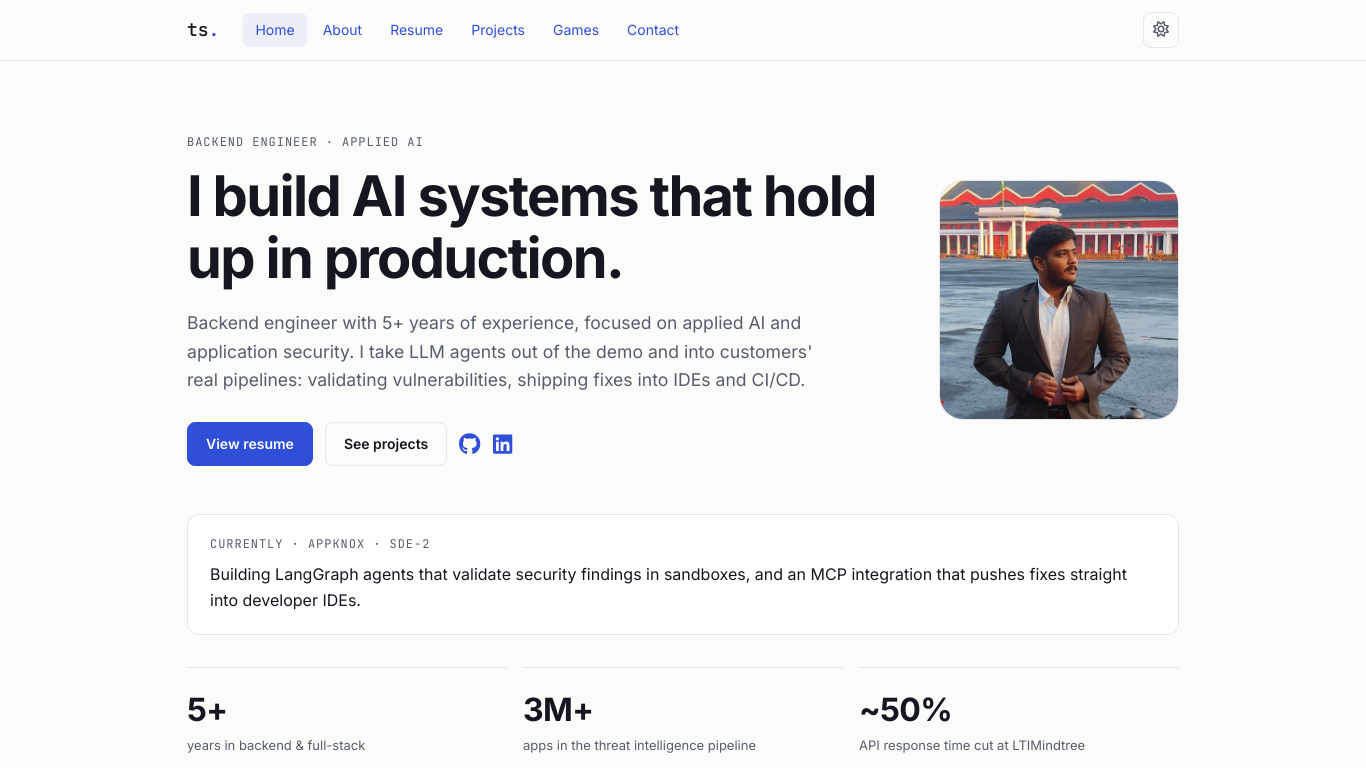
contact page has only email and GitHub, and no phone number
The image size is (1366, 768).
Click the link "Contact" at {"x": 653, "y": 29}, box [627,21,679,38]
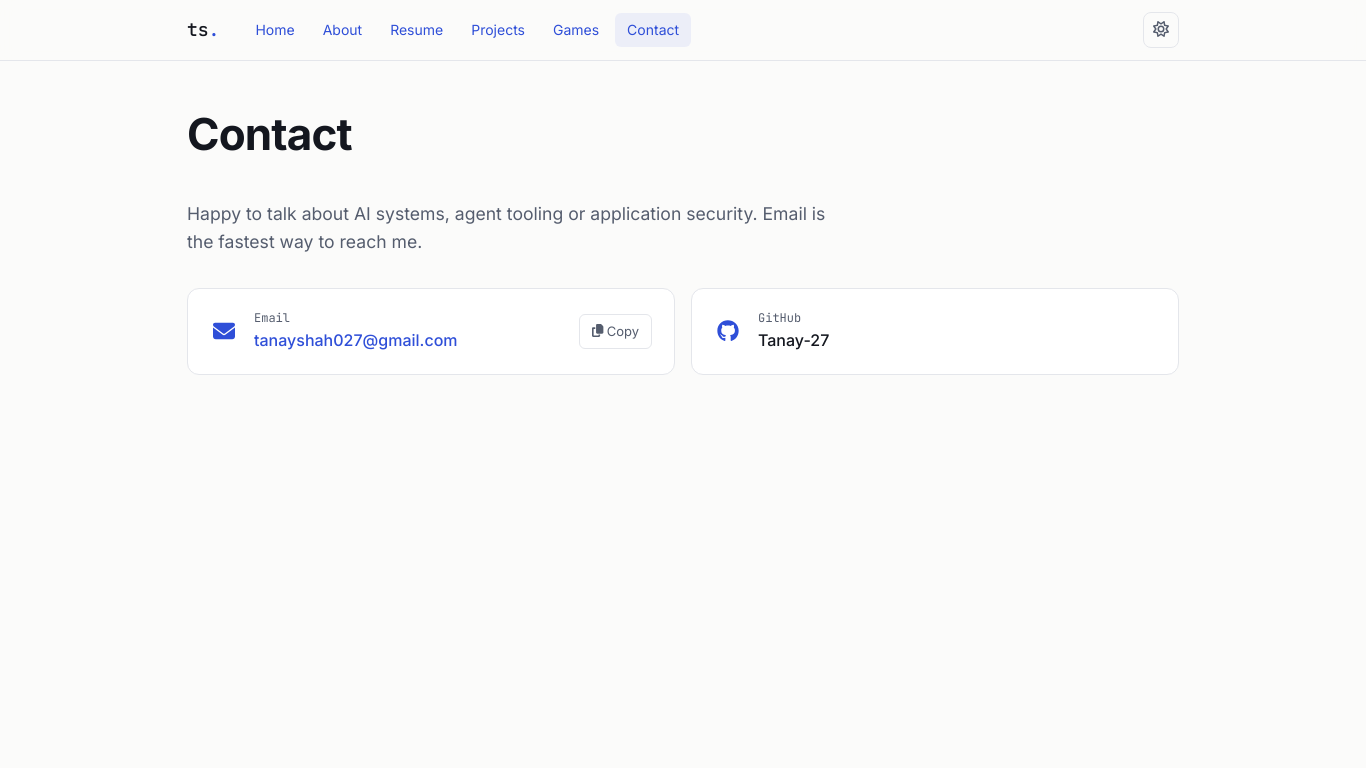
Expected: the link "GitHub Tanay-27" is shown, [691,288,1179,375]
